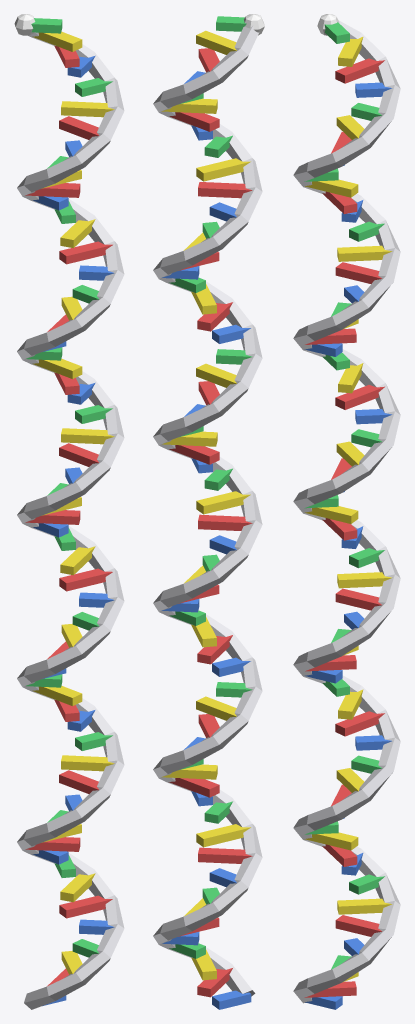
Rendered from DNA_StrandB.fbx.
The picture shows the model from 3 angles, left to right: view 1: azimuth 30°, elevation 25°; view 2: azimuth 210°, elevation 25°; view 3: azimuth 330°, elevation 25°; orthographic projection.
Visible parts, largest first — view 1: DNA_StrandB; view 2: DNA_StrandB; view 3: DNA_StrandB.
Part boxes in pixels (x1,y1,x2,y2): DNA_StrandB: [14, 14, 124, 1009]; DNA_StrandB: [153, 14, 264, 1009]; DNA_StrandB: [293, 14, 400, 1009].
Size of the model in its own units: 0.06 by 0.6004 by 0.0571.
